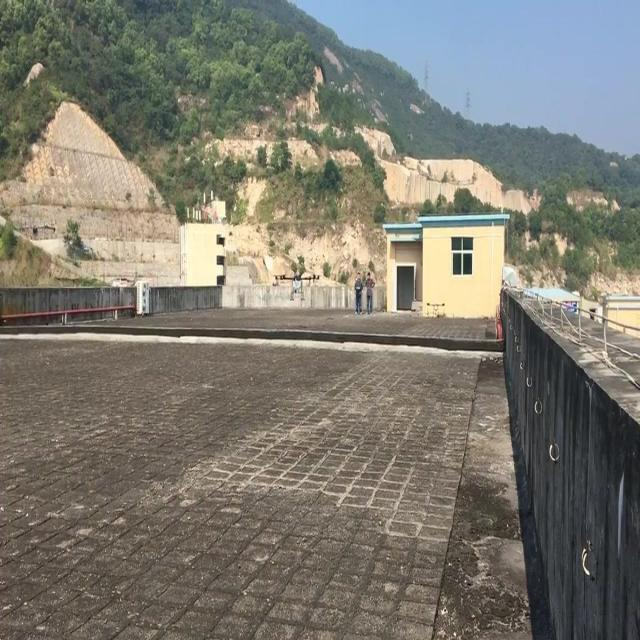UAV: (272, 272, 320, 300)
